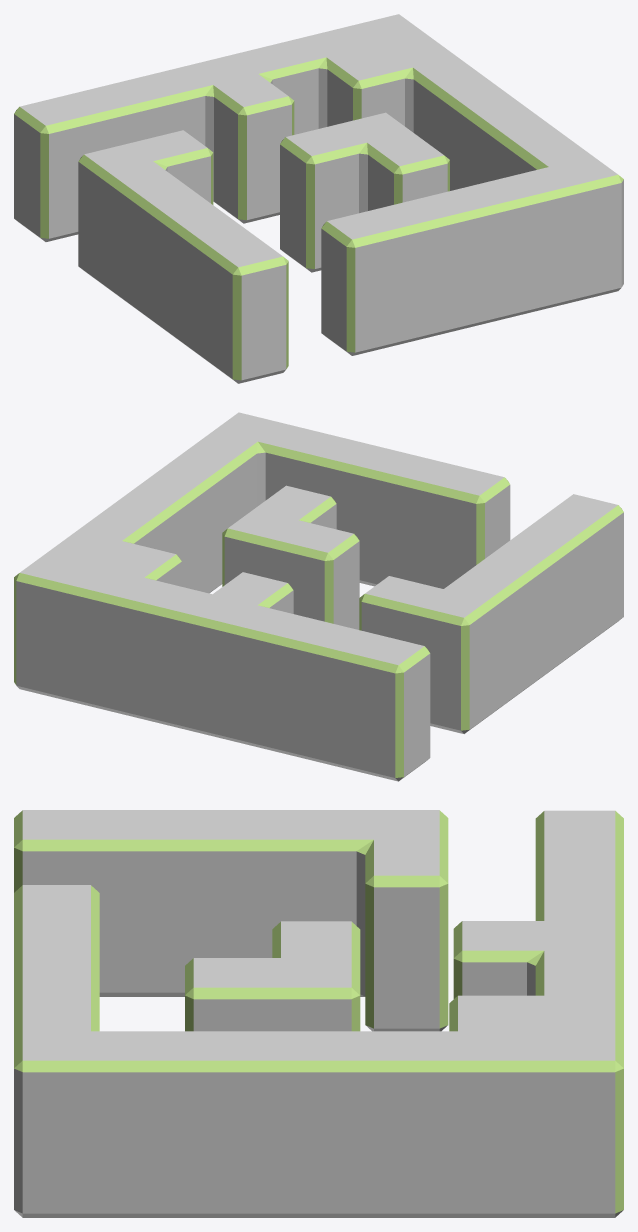
Rendered from Lvl7.fbx.
3 views of the same model, one above another, from view 1: azimuth 30°, elevation 25°; view 2: azimuth 150°, elevation 25°; view 3: azimuth 270°, elevation 25° (orthographic). The views are drawn at different scales.
Parts seen in each view (by area): view 1: Cube.001, Cube.002; view 2: Cube.001, Cube.002; view 3: Cube.001, Cube.002.
Boxes of the visible parts, x1,y1,x2,y2 form: Cube.001: [14, 14, 623, 383]; Cube.002: [280, 112, 449, 272]; Cube.001: [14, 412, 623, 781]; Cube.002: [222, 485, 359, 629]; Cube.001: [14, 810, 623, 1217]; Cube.002: [185, 921, 360, 1031].
Size of the model in its own units: 6.98 by 1.98 by 6.98.
